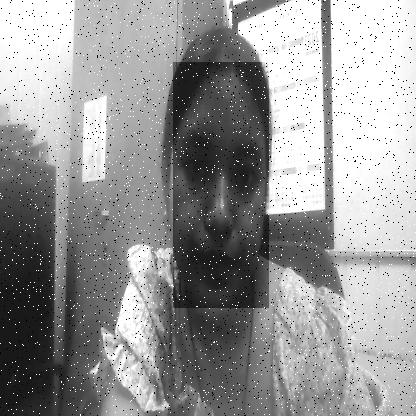Normal: (173, 62, 269, 308)
